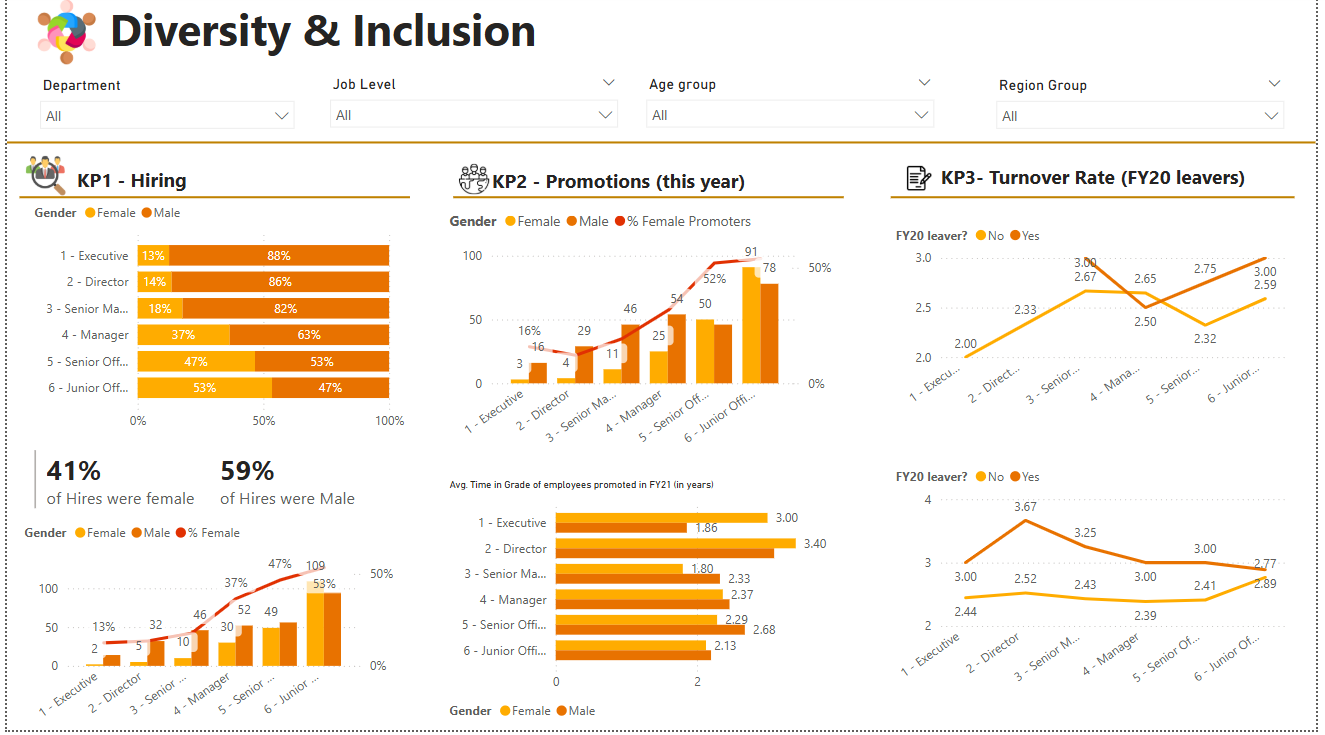

The dashboard page shown, as its layout file describes it:
{"tool":"powerbi","page":{"name":"Page 1","canvas":[1280,720],"ordinal":0},"visuals":[{"type":"textbox","box":[95.2,0,545.2,75.8],"z":0},{"type":"slicer","fields":{"Values":["Pharma.Last Department in FY20"]},"box":[22,76,269,65],"z":1000},{"type":"slicer","fields":{"Values":["Pharma.Job Level after FY20 promotions"]},"box":[306,75,302,79],"z":2000},{"type":"slicer","fields":{"Values":["Pharma.Age group"]},"box":[614.5,74,301.7,78.7],"z":3000},{"type":"slicer","fields":{"Values":["Pharma.Broad region group: nationality 1"]},"box":[957.9,75.9,301.7,78.7],"z":4000},{"type":"hundredPercentStackedBarChart","fields":{"Category":["Pharma.Job Level after FY20 promotions"],"Y":["CountNonNull(Pharma.Employee ID)"],"Series":["Pharma.Gender"]},"box":[22,195,372,241],"z":5000},{"type":"multiRowCard","fields":{"Values":["Pharma.% Female","Pharma.% Male"]},"box":[22,442,361,78],"z":6000},{"type":"lineClusteredColumnComboChart","fields":{"Category":["Pharma.Job Level after FY20 promotions"],"Y":["CountNonNull(Pharma.Employee ID)"],"Y2":["Pharma.% Female"],"Series":["Pharma.Gender"]},"box":[12,507,371,213],"z":7000},{"type":"lineClusteredColumnComboChart","fields":{"Y":["CountNonNull(Pharma.Employee ID)"],"Y2":["Pharma.% Female"],"Series":["Pharma.Gender"],"Category":["Pharma.Job Level after FY21 promotions"]},"box":[428,202,384,251],"z":8000},{"type":"clusteredBarChart","title":"Avg. Time in Grade of employees promoted in FY21 (in years)","fields":{"Category":["Pharma.Job Level after FY20 promotions"],"Series":["Pharma.Gender"],"Y":["Avg(Pharma.Time in Job Level @01.07.2020)"]},"box":[428,475,384,245],"z":9000},{"type":"lineChart","fields":{"Category":["Pharma.Job Level after FY20 promotions"],"Y":["Avg(Pharma.FY19 Performance Rating)"],"Series":["Pharma.FY20 leaver?"]},"box":[865,217,395,198],"z":10000},{"type":"lineChart","fields":{"Category":["Pharma.Job Level after FY20 promotions"],"Y":["Avg(Pharma.FY19 Performance Rating)"],"Series":["Pharma.FY20 leaver?"]},"box":[865,453,395,235],"z":11000},{"type":"shape","box":[0,136,1280,19],"z":12000},{"type":"textbox","box":[63,164,150,37],"z":13000},{"type":"textbox","box":[469,165,318,52],"z":14000},{"type":"textbox","box":[909,162,318,52],"z":15000},{"type":"shape","box":[12,188,382,21],"z":16000},{"type":"shape","box":[437,188,382,21],"z":17000},{"type":"shape","box":[865,188,395,21],"z":18000},{"type":"image","box":[875,158,34,44],"z":20000},{"type":"image","box":[436,162,41,39],"z":21000},{"type":"image","box":[12,153,51,50],"z":22000},{"type":"image","box":[22,0,73,74],"z":23000}]}

Visuals, with their boxes in screenshot pixels (x1, y1, x2, y2), scaled from the page's 1280x720 canvas onto the 1325x735 screenshot:
textbox: 99 0 663 77
slicer - Pharma.Last Department in FY20: 23 78 301 144
slicer - Pharma.Job Level after FY20 promotions: 317 77 629 157
slicer - Pharma.Age group: 636 76 948 156
slicer - Pharma.Broad region group: nationality 1: 992 77 1304 158
hundredPercentStackedBarChart - Pharma.Job Level after FY20 promotions x CountNonNull(Pharma.Employee ID): 23 199 408 445
multiRowCard - Pharma.% Female x Pharma.% Male: 23 451 396 531
lineClusteredColumnComboChart - Pharma.Job Level after FY20 promotions x CountNonNull(Pharma.Employee ID): 12 518 396 734
lineClusteredColumnComboChart - CountNonNull(Pharma.Employee ID) x Pharma.% Female: 443 206 841 462
"Avg. Time in Grade of employees promoted in FY21 (in years)" clusteredBarChart: 443 485 841 734
lineChart - Pharma.Job Level after FY20 promotions x Avg(Pharma.FY19 Performance Rating): 895 222 1304 424
lineChart - Pharma.Job Level after FY20 promotions x Avg(Pharma.FY19 Performance Rating): 895 462 1304 702
shape: 0 139 1324 158
textbox: 65 167 220 205
textbox: 485 168 815 222
textbox: 941 165 1270 218
shape: 12 192 408 213
shape: 452 192 848 213
shape: 895 192 1304 213
image: 906 161 941 206
image: 451 165 494 205
image: 12 156 65 207
image: 23 0 98 76
